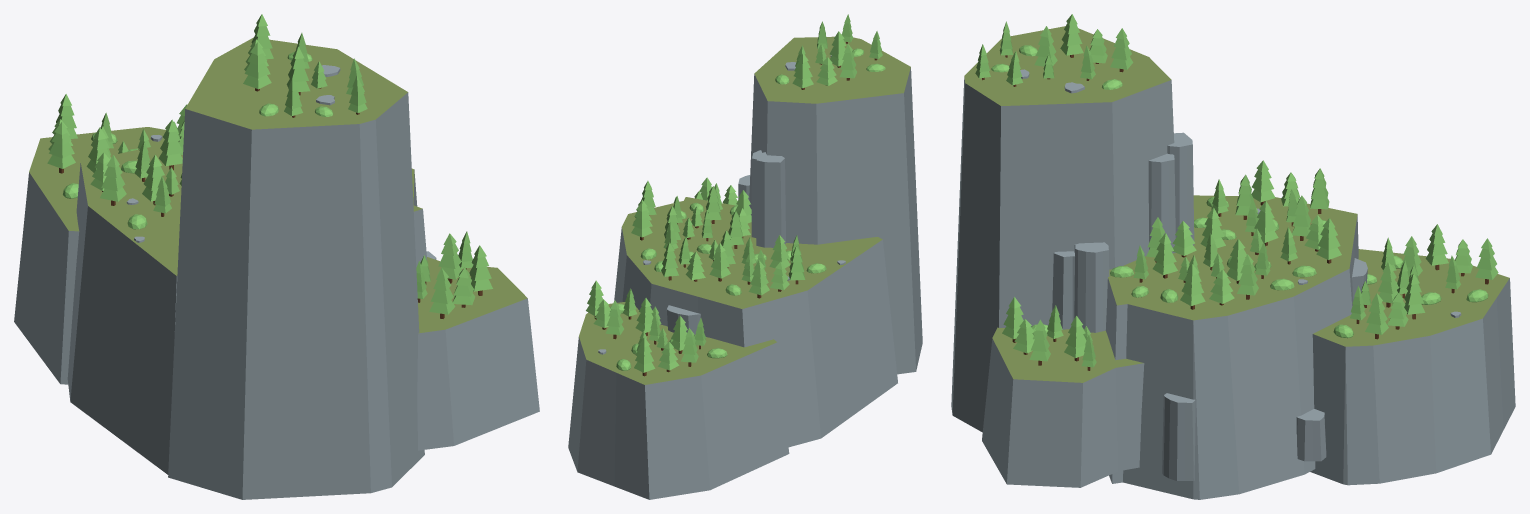
The model's file is MountainBackground2.fbx.
The picture shows the model from 3 angles, left to right: view 1: azimuth 30°, elevation 25°; view 2: azimuth 150°, elevation 25°; view 3: azimuth 270°, elevation 25°; orthographic projection. The views are drawn at different scales.
Visible parts, largest first — view 1: Cube.640, Cube.642, Cube.641, Cube.643; view 2: Cube.642, Cube.640, Cube.643, Cube.880, Cube.845, Cube.879; view 3: Cube.640, Cube.642, Cube.643, Cube.641, Cube.677, Cube.671, Cube.879, Cube.880, Cube.676, Cube.672.
Boxes of the visible parts, <box> form: Cube.640: <box>168,37,424,499</box>; Cube.642: <box>67,144,427,474</box>; Cube.641: <box>417,257,539,450</box>; Cube.643: <box>14,127,166,384</box>; Cube.642: <box>614,197,897,447</box>; Cube.640: <box>749,36,922,374</box>; Cube.643: <box>568,302,789,499</box>; Cube.880: <box>756,152,785,247</box>; Cube.845: <box>666,305,700,334</box>; Cube.879: <box>751,150,762,237</box>; Cube.640: <box>951,26,1174,432</box>; Cube.642: <box>1105,195,1358,499</box>; Cube.643: <box>1310,249,1515,485</box>; Cube.641: <box>982,327,1144,487</box>; Cube.677: <box>1074,242,1109,332</box>; Cube.671: <box>1162,393,1195,480</box>; Cube.879: <box>1148,153,1175,253</box>; Cube.880: <box>1167,132,1194,245</box>; Cube.676: <box>1052,251,1074,329</box>; Cube.672: <box>1296,409,1326,461</box>.
Size of the model in its own units: 4121 by 4908 by 6513.
